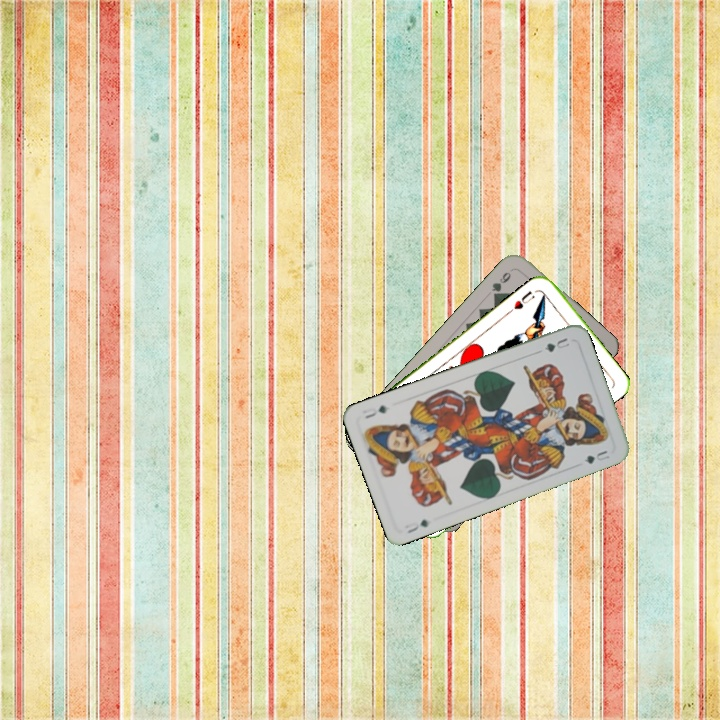G9: (487, 265, 516, 301)
GU: (540, 333, 572, 355), (401, 515, 432, 536)
HU: (510, 287, 537, 312)
